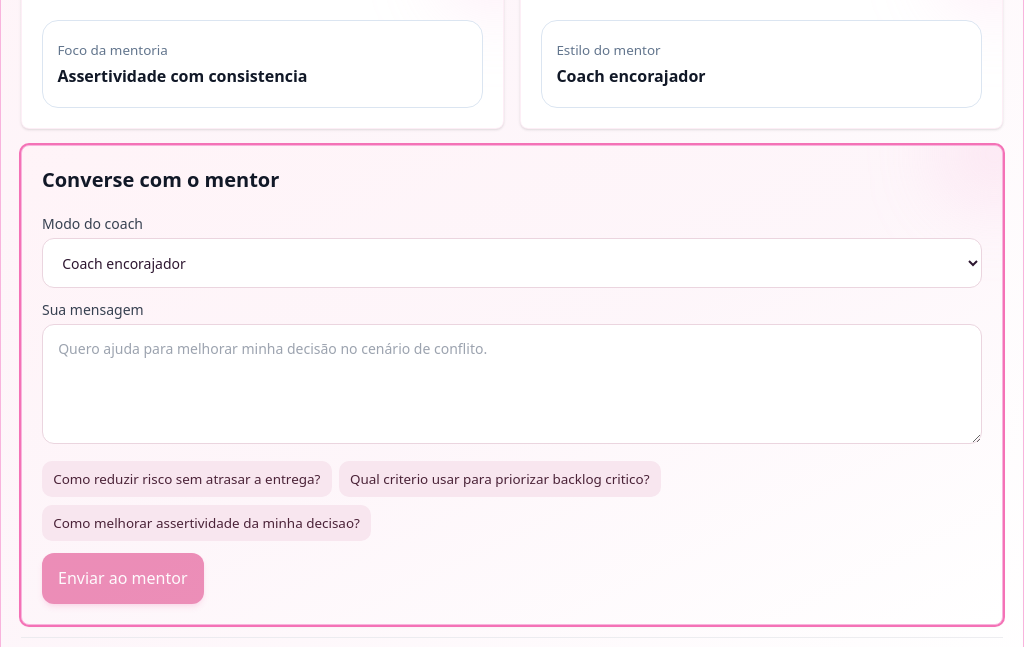
Scenario: MentorPage › envia mensagem e exibe resposta do coach
The width and height of the screenshot is (1024, 647).
(page scrolled)
Step 1. Select "Analítico" in the dropdown labelled "Modo do coach" → coordinates (512, 263), box 42,238 -> 982,288
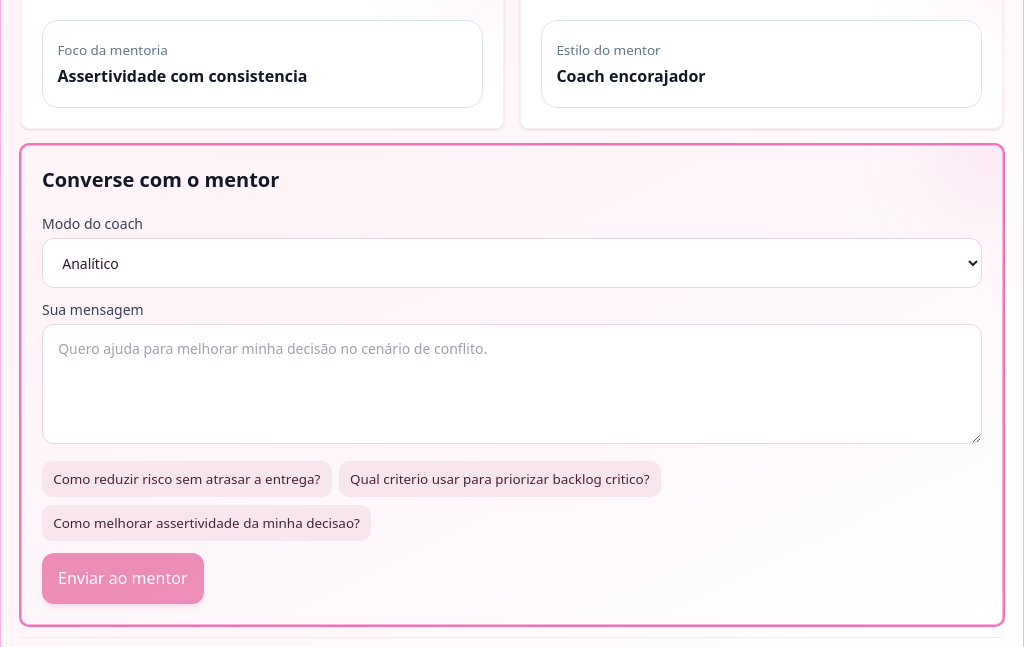
Step 2. Replace the text in the text box with placeholder "Quero ajuda" with "Me ajude" → coordinates (512, 384), box 42,324 -> 982,444
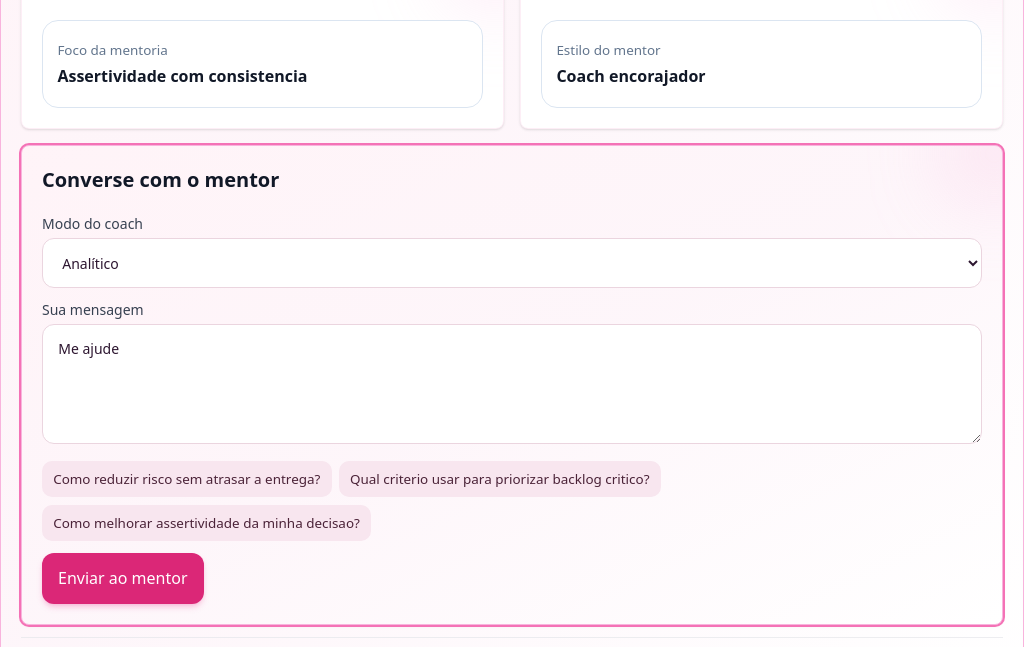
Step 3. Click the button "Enviar ao mentor" → coordinates (123, 578), box 42,553 -> 204,604
(page scrolled)
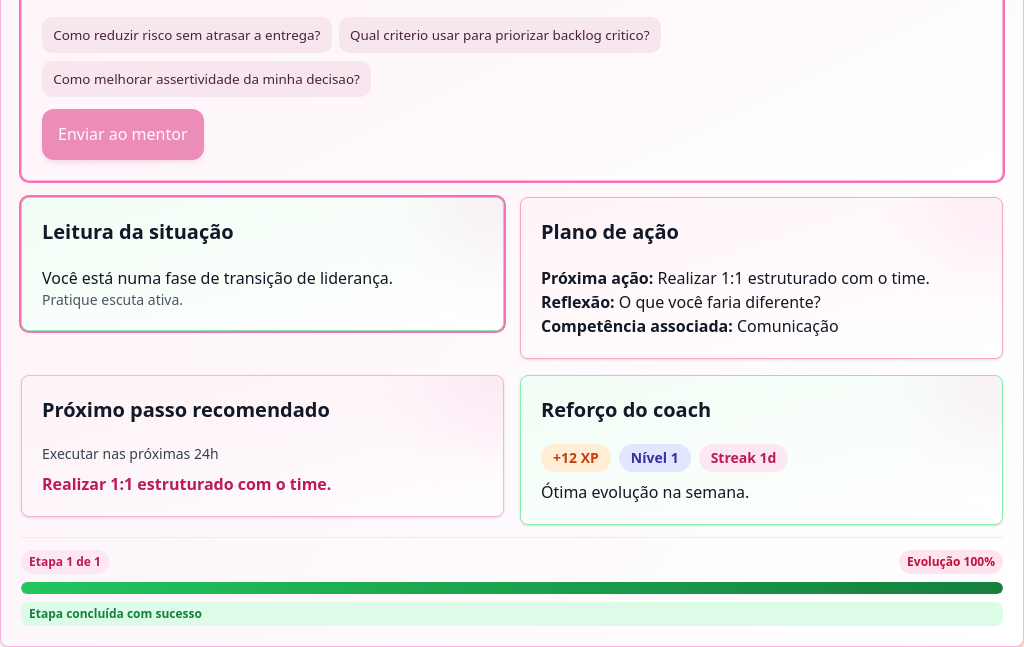
Result: the text "Você está numa fase de transição de liderança." is shown at 42,267 -> 393,289
